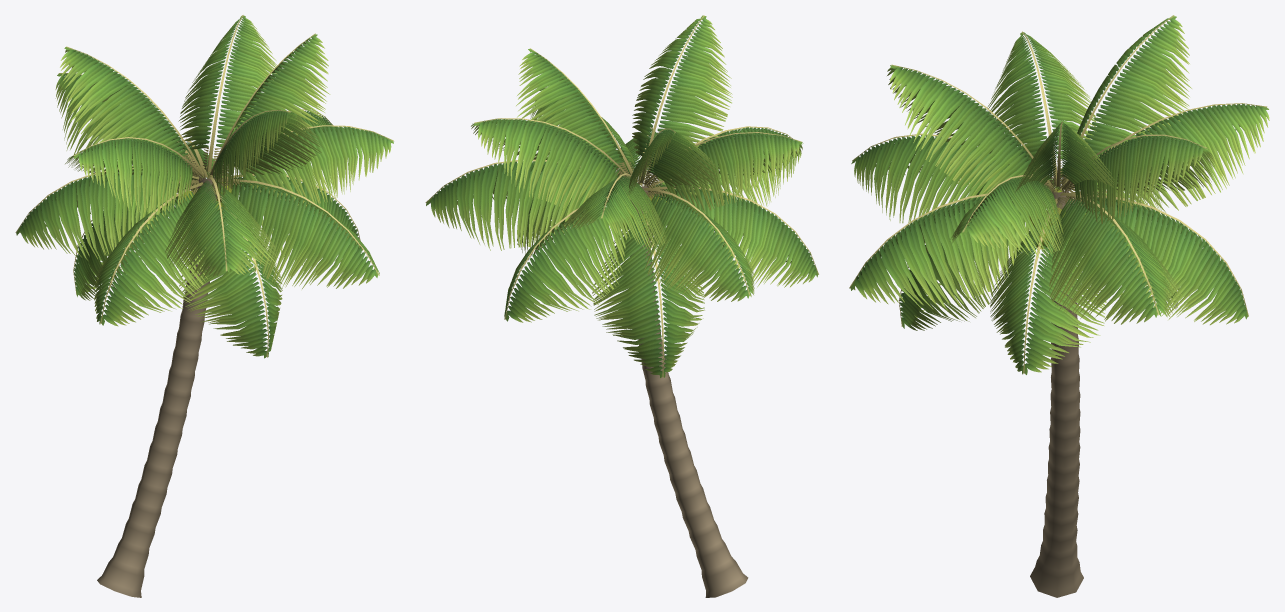
Rendered from coconut.glb.
3 views of the same model, side by side, from view 1: azimuth 30°, elevation 25°; view 2: azimuth 150°, elevation 25°; view 3: azimuth 270°, elevation 25° (orthographic). The views are drawn at different scales.
Parts seen in each view (by area): view 1: coconut_mesh; view 2: coconut_mesh; view 3: coconut_mesh.
Boxes of the visible parts, x1=… form: coconut_mesh: x1=15, y1=15, x2=393, y2=597; coconut_mesh: x1=425, y1=15, x2=818, y2=597; coconut_mesh: x1=849, y1=15, x2=1269, y2=597.
Size of the model in its own units: 4.99 by 7.52 by 5.
Materials: 3 (1 with a texture image).
